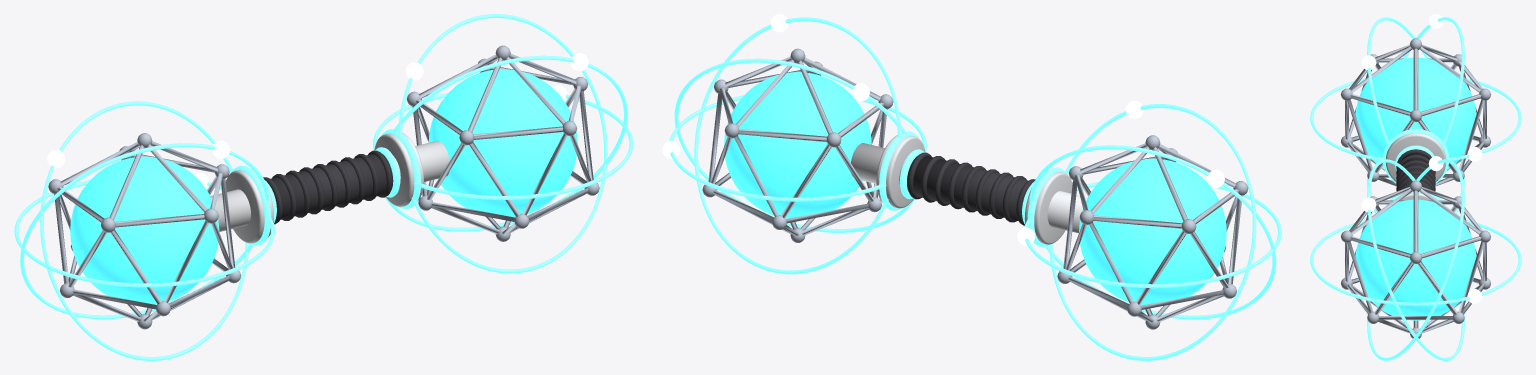
File: dm_quantum10t.glb
The picture shows the model from 3 angles, left to right: view 1: azimuth 30°, elevation 25°; view 2: azimuth 150°, elevation 25°; view 3: azimuth 270°, elevation 25°; orthographic projection. The views are drawn at different scales.
Visible parts, largest first — view 1: Quantum10t_Shell, Quantum10t_Shell.001, Quantum10t_Frame, Quantum10t_Frame.001, Quantum10t_Grip, Quantum10t_Orbit.004, Quantum10t_Orbit.001, Quantum10t_Orbit.002, Quantum10t_Orbit.005, Quantum10t_Bar, Quantum10t_Orbit, Quantum10t_Orbit.003 (+4 smaller); view 2: Quantum10t_Shell, Quantum10t_Shell.001, Quantum10t_Frame, Quantum10t_Frame.001, Quantum10t_Grip, Quantum10t_Orbit.005, Quantum10t_Orbit.002, Quantum10t_Orbit.001, Quantum10t_Orbit.004, Quantum10t_Bar, Quantum10t_Orbit.003, Quantum10t_Orbit (+4 smaller); view 3: Quantum10t_Shell.001, Quantum10t_Shell, Quantum10t_Frame.001, Quantum10t_Frame, Quantum10t_Orbit.003, Quantum10t_Orbit.004, Quantum10t_Orbit.005, Quantum10t_Collar, Quantum10t_Orbit, Quantum10t_Orbit.001, Quantum10t_Orbit.002, Quantum10t_CollarGlow (+5 smaller).
Boxes of the visible parts, x1,y1,x2,y2 form: Quantum10t_Shell: (70,156,219,304); Quantum10t_Shell.001: (428,69,577,217); Quantum10t_Frame: (54,141,235,323); Quantum10t_Frame.001: (412,54,593,235); Quantum10t_Grip: (270,154,393,219); Quantum10t_Orbit.004: (398,14,607,273); Quantum10t_Orbit.001: (40,101,249,360); Quantum10t_Orbit.002: (20,143,269,319); Quantum10t_Orbit.005: (385,55,627,231); Quantum10t_Bar: (210,140,449,231); Quantum10t_Orbit: (14,180,274,287); Quantum10t_Orbit.003: (373,92,633,199); Quantum10t_Shell: (1079,158,1226,305); Quantum10t_Shell.001: (724,72,871,218); Quantum10t_Frame: (1063,143,1242,323); Quantum10t_Frame.001: (708,56,887,236); Quantum10t_Grip: (907,156,1028,220); Quantum10t_Orbit.005: (694,17,901,274); Quantum10t_Orbit.002: (1049,104,1256,360); Quantum10t_Orbit.001: (1029,145,1276,319); Quantum10t_Orbit.004: (674,58,914,232); Quantum10t_Bar: (851,143,1087,233); Quantum10t_Orbit.003: (669,95,926,201); Quantum10t_Orbit: (1024,182,1281,288); Quantum10t_Shell.001: (1355,199,1476,320); Quantum10t_Shell: (1355,57,1476,169); Quantum10t_Frame.001: (1345,187,1486,333); Quantum10t_Frame: (1345,44,1486,186); Quantum10t_Orbit.003: (1310,220,1521,305); Quantum10t_Orbit.004: (1367,159,1464,360); Quantum10t_Orbit.005: (1367,159,1464,360); Quantum10t_Collar: (1386,133,1445,182); Quantum10t_Orbit: (1310,78,1521,160); Quantum10t_Orbit.001: (1367,17,1464,213); Quantum10t_Orbit.002: (1367,17,1464,213); Quantum10t_CollarGlow: (1382,129,1449,183).
Size of the model in its own units: 6.76 by 2.37 by 2.61.
